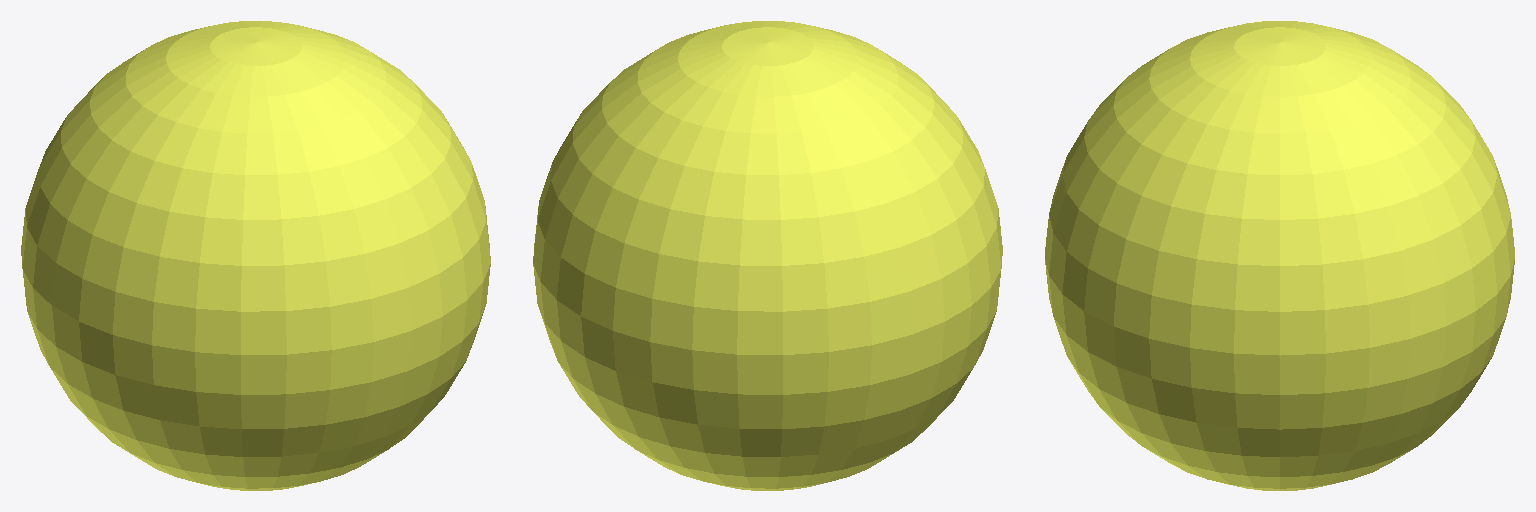
File: sun.obj
3 views of the same model, side by side, from view 1: azimuth 30°, elevation 25°; view 2: azimuth 150°, elevation 25°; view 3: azimuth 270°, elevation 25° (orthographic).
Visible parts, largest first — view 1: Sphere; view 2: Sphere; view 3: Sphere.
Part boxes in pixels (x1,y1,x2,y2): Sphere: (21, 21, 490, 490); Sphere: (533, 21, 1002, 490); Sphere: (1045, 21, 1514, 490).
Size of the model in its own units: 3 by 3 by 3.